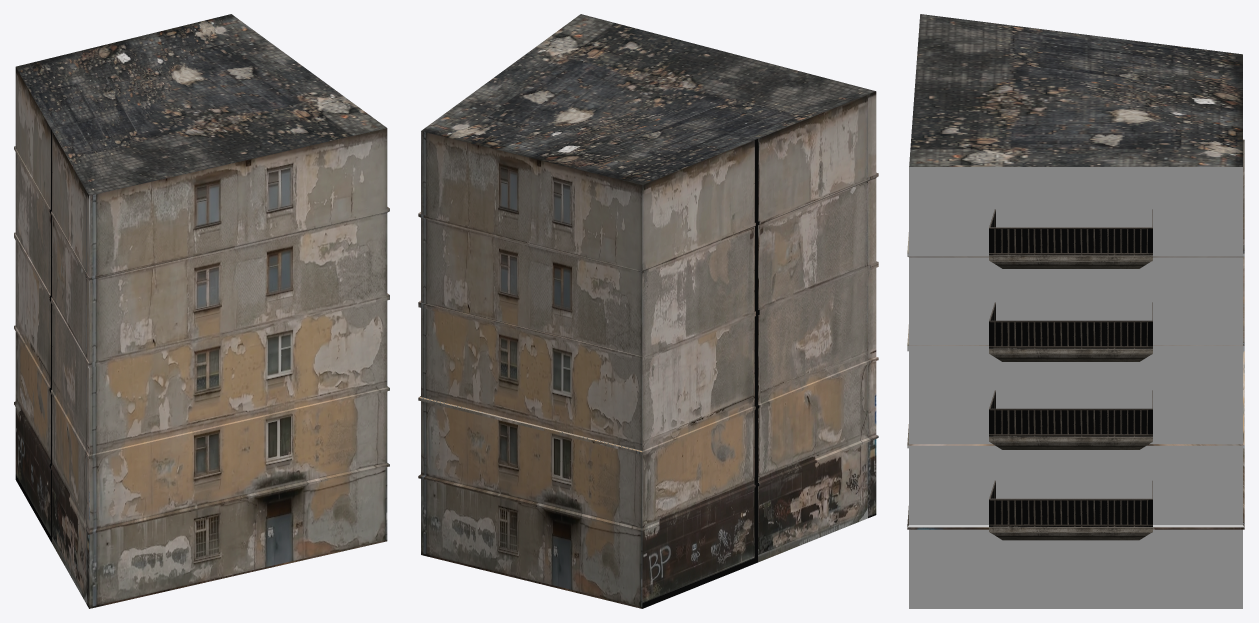
The model's file is Building 1.fbx.
The picture shows the model from 3 angles, left to right: view 1: azimuth 30°, elevation 25°; view 2: azimuth 150°, elevation 25°; view 3: azimuth 270°, elevation 25°; orthographic projection. The views are drawn at different scales.
Parts seen in each view (by area): view 1: polySurface8; view 2: polySurface8; view 3: polySurface8.
Part boxes in pixels (x1,y1,x2,y2): polySurface8: (14,14,389,608); polySurface8: (418,14,878,608); polySurface8: (907,14,1244,608).
Bounding box in the file's own units: 11.74 × 14.04 × 9.72.
